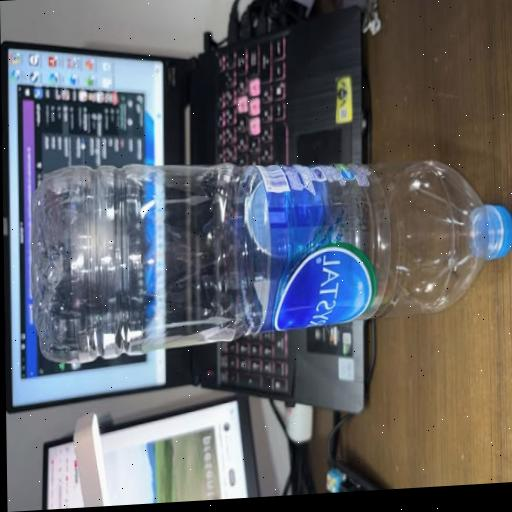ba: (21, 127, 512, 376)
